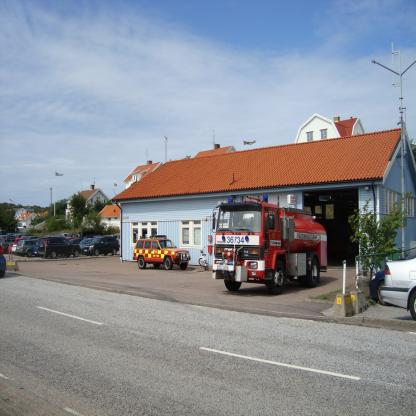Car: (1, 235, 120, 259), (132, 235, 191, 270), (373, 263, 415, 312), (1, 244, 8, 277)
